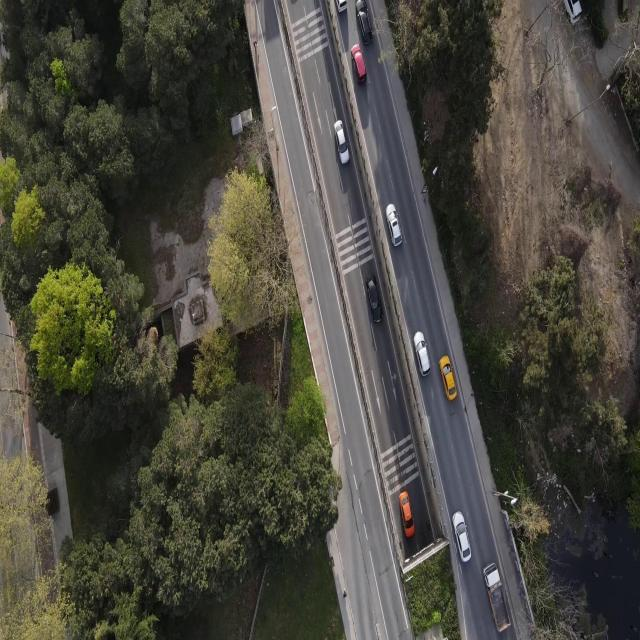p3rson: (343, 591, 347, 599), (254, 41, 256, 53)
